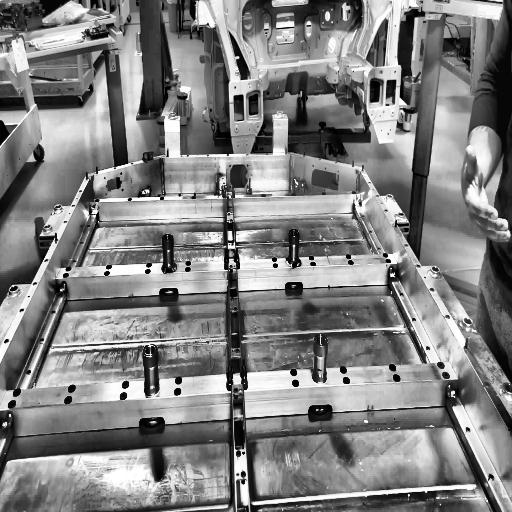b_casing: (0, 153, 512, 512)
